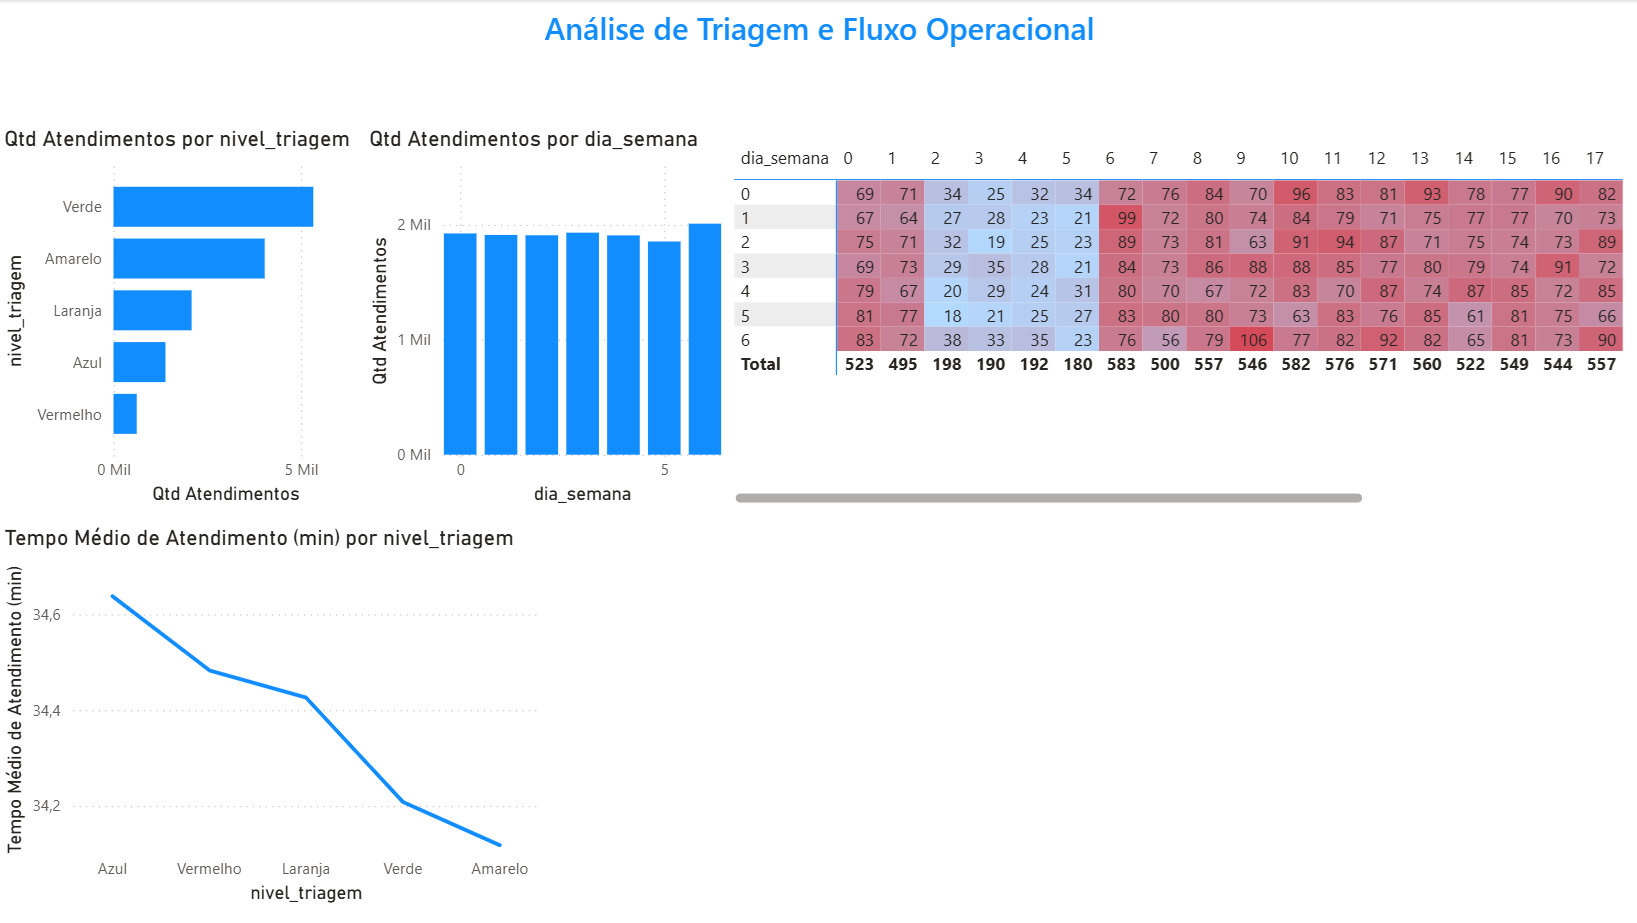

This screenshot's page, from the dashboard's own definition file:
{"tool":"powerbi","page":{"name":"Triagem e Fluxo","canvas":[1280,720],"ordinal":1},"visuals":[{"type":"textbox","box":[420.7,0,438.6,107.4],"z":0},{"type":"clusteredBarChart","fields":{"Category":["atendimentos_urgencia_simulado.nivel_triagem"],"Y":["atendimentos_urgencia_simulado.Qtd Atendimentos"]},"box":[0,97.7,284.2,299.9],"z":1000},{"type":"columnChart","fields":{"Category":["atendimentos_urgencia_simulado.dia_semana"],"Y":["atendimentos_urgencia_simulado.Qtd Atendimentos"]},"box":[284.2,97.7,284.2,299.9],"z":2000},{"type":"pivotTable","fields":{"Rows":["atendimentos_urgencia_simulado.dia_semana"],"Columns":["atendimentos_urgencia_simulado.hora_chegada"],"Values":["atendimentos_urgencia_simulado.Qtd Atendimentos"]},"box":[568.7,107.5,701.9,289.8],"z":3000},{"type":"lineChart","fields":{"Category":["atendimentos_urgencia_simulado.nivel_triagem"],"Y":["atendimentos_urgencia_simulado.Tempo Médio de Atendimento (min)"]},"box":[0,408.2,426.1,299.9],"z":4000}]}

Visuals, with their boxes in screenshot pixels (x1, y1, x2, y2), scaled from the page's 1280x720 canvas onto the 1637x923 screenshot:
textbox: {"left": 538, "top": 0, "right": 1099, "bottom": 138}
clusteredBarChart - atendimentos_urgencia_simulado.nivel_triagem x atendimentos_urgencia_simulado.Qtd Atendimentos: {"left": 0, "top": 125, "right": 363, "bottom": 510}
columnChart - atendimentos_urgencia_simulado.dia_semana x atendimentos_urgencia_simulado.Qtd Atendimentos: {"left": 363, "top": 125, "right": 727, "bottom": 510}
pivotTable - atendimentos_urgencia_simulado.dia_semana x atendimentos_urgencia_simulado.hora_chegada: {"left": 727, "top": 138, "right": 1625, "bottom": 509}
lineChart - atendimentos_urgencia_simulado.nivel_triagem x atendimentos_urgencia_simulado.Tempo Médio de Atendimento (min): {"left": 0, "top": 523, "right": 545, "bottom": 908}
